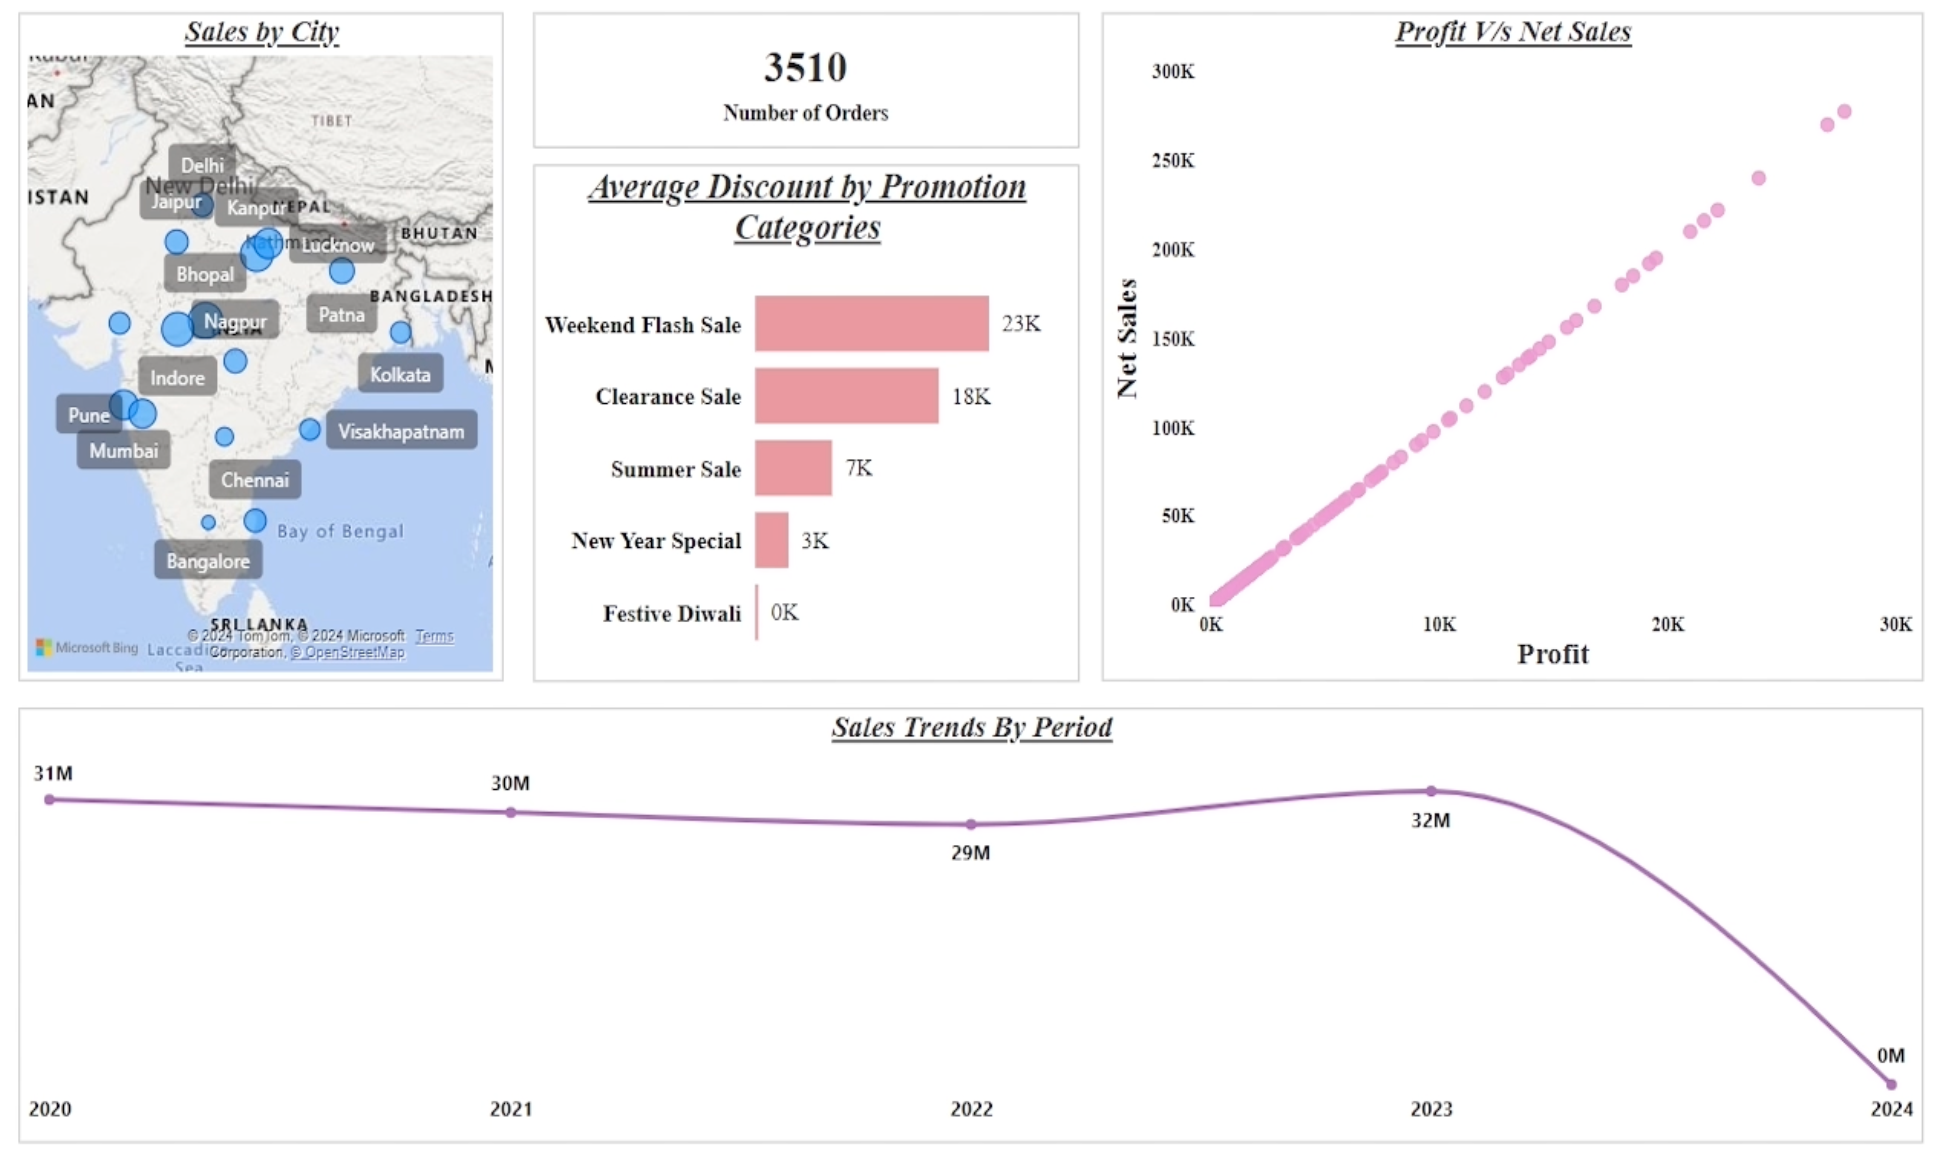

What the dashboard file says about the page in this screenshot:
{"tool":"powerbi","page":{"name":"Overview","canvas":[1280,720],"ordinal":1},"visuals":[{"type":"lineChart","title":"Sales Trends By Year","fields":{"Y":["Sum(Fact Table.Net Sales   )"],"Category":["Fact Table.Date (dd/mm/yyyy).Variation.Date Hierarchy.Year"]},"box":[25.9,440.4,1232.2,255.8],"z":0},{"type":"scatterChart","title":"Profit V/s Net Sales   ","fields":{"X":["Fact Table.Profit"],"Y":["Fact Table.Net Sales   "]},"box":[727,11.3,531.1,411.3],"z":1000},{"type":"barChart","title":"Average Discount by Promotion Categories","fields":{"Y":["Avg(Fact Table.Discount)"],"Category":["Dim Promotion.Promotion Name"]},"box":[349.8,153.8,357.8,268.8],"z":2000},{"type":"cardVisual","fields":{"Data":["Count(Fact Table.Order ID)"]},"box":[349.8,11.3,357.8,131.2],"z":3000},{"type":"map","title":"Sales by City","fields":{"Category":["Dim Customers.City"],"Size":["Sum(Fact Table.Net Sales   )"]},"box":[25.9,0,309.3,422.6],"z":4000}]}

Visuals, with their boxes on the page's 1280x720 design canvas (x1, y1, x2, y2). These are canvas units, not pixel positions in the 1940x1158 screenshot, which may show the page scaled, cropped or inside an application window:
"Sales Trends By Year" lineChart: region(26, 440, 1258, 696)
"Profit V/s Net Sales   " scatterChart: region(727, 11, 1258, 423)
"Average Discount by Promotion Categories" barChart: region(350, 154, 708, 423)
cardVisual - Count(Fact Table.Order ID): region(350, 11, 708, 142)
"Sales by City" map: region(26, 0, 335, 423)
